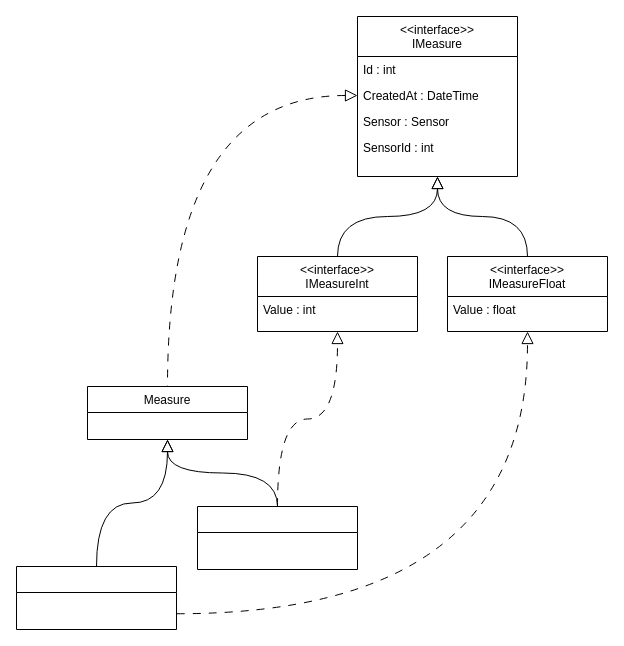
This 624x646 diagram has some shape labels left out. The box of each missing label's shape, as (x1, y1, x2, y2) in pixels:
MeasurePercentage: (196, 506, 358, 570)
MeasureTemperatue: (16, 566, 176, 630)
